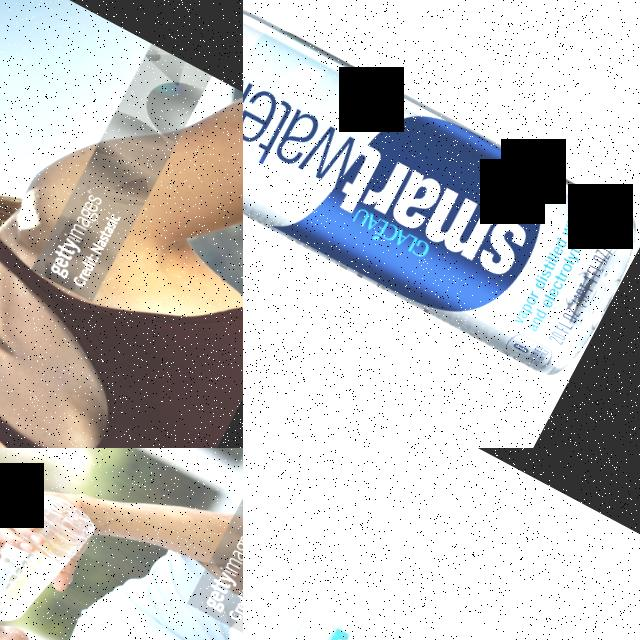bottle: (243, 0, 640, 389), (0, 480, 104, 640)
cup: (243, 488, 640, 640)
